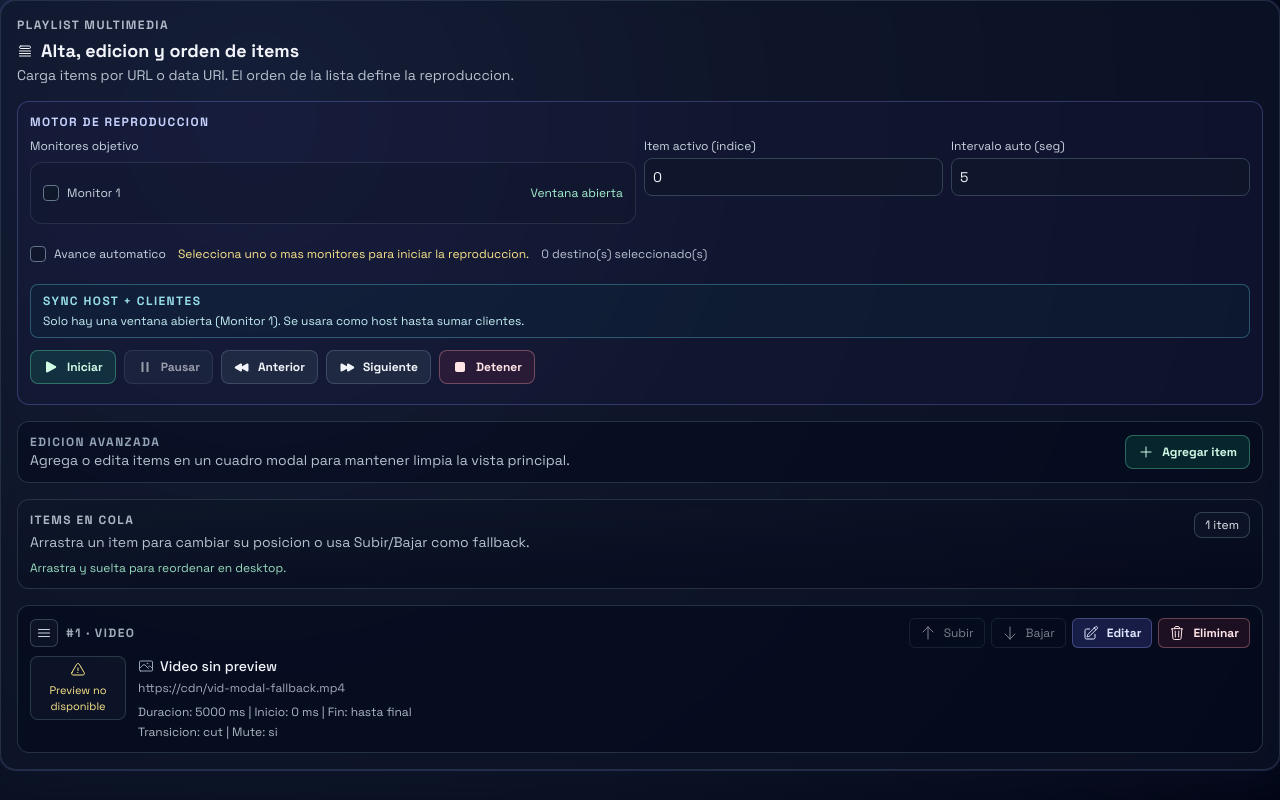
Test: components/PlaylistManager › muestra fallback claro en modal cuando no hay thumbnail disponible
Click the button with test id "item-thumbnail-vid-modal-fallback".
click(78, 688)  # box [30,656,126,720]
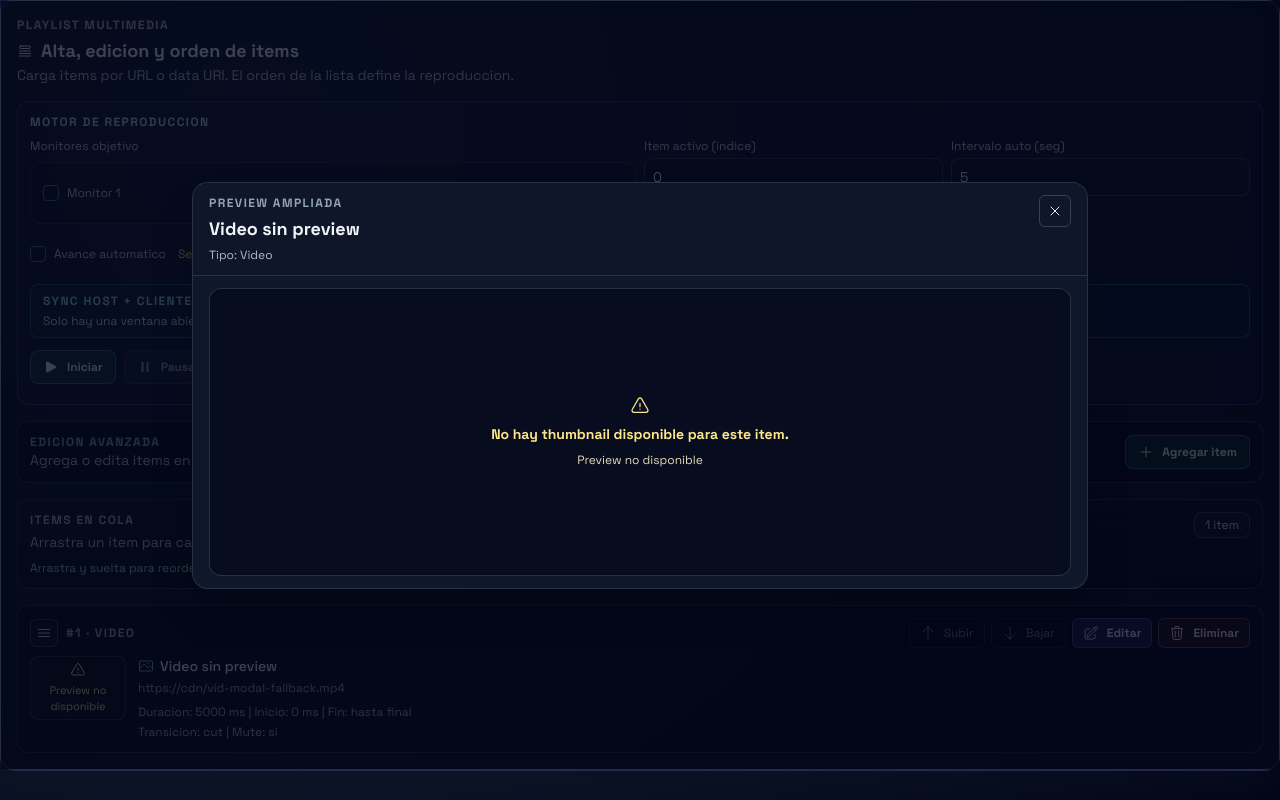
Check: the element with test id "preview-item-modal-fallback" shows "No hay thumbnail disponible para este item", box [491,424,789,442]
Check: the element with test id "preview-item-modal-fallback" shows "Preview no disponible", box [577,452,703,468]
Check: the dialog with test id "preview-item-modal" shows "Tipo: Video", box [209,246,273,262]
